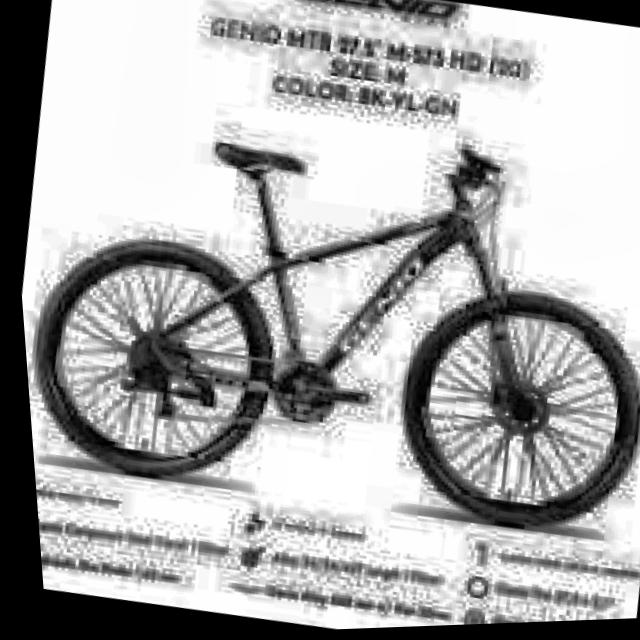motorcycle: (5, 59, 640, 576)
